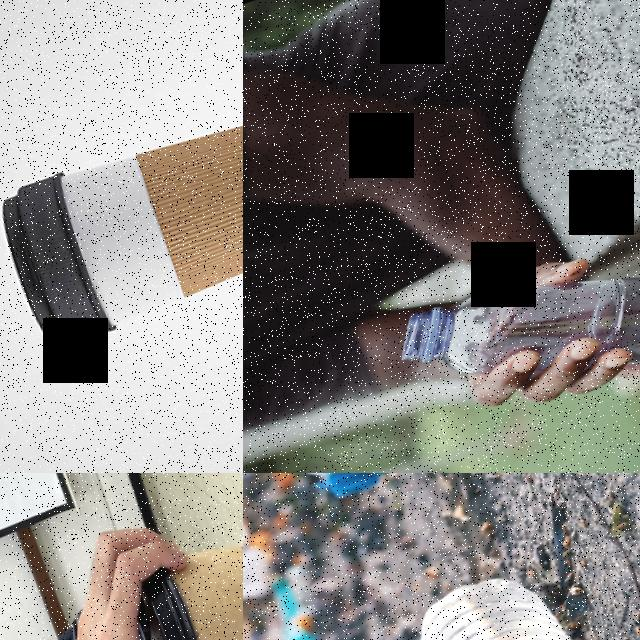bottle: (387, 199, 640, 463), (401, 550, 636, 640)
cup: (0, 53, 243, 358), (122, 523, 243, 640)
